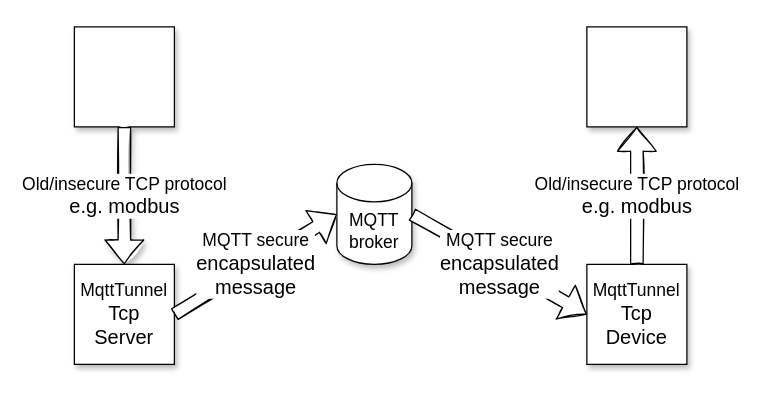
Some shapes in this 760 by 395 pixel diagram are drawn without their labels. The shapes that lost their labels are listed below. From the top down, each one's centre as x and y in pixels, then its label:
At [125,78]: "Original client".
At [637,78]: "Original server".
